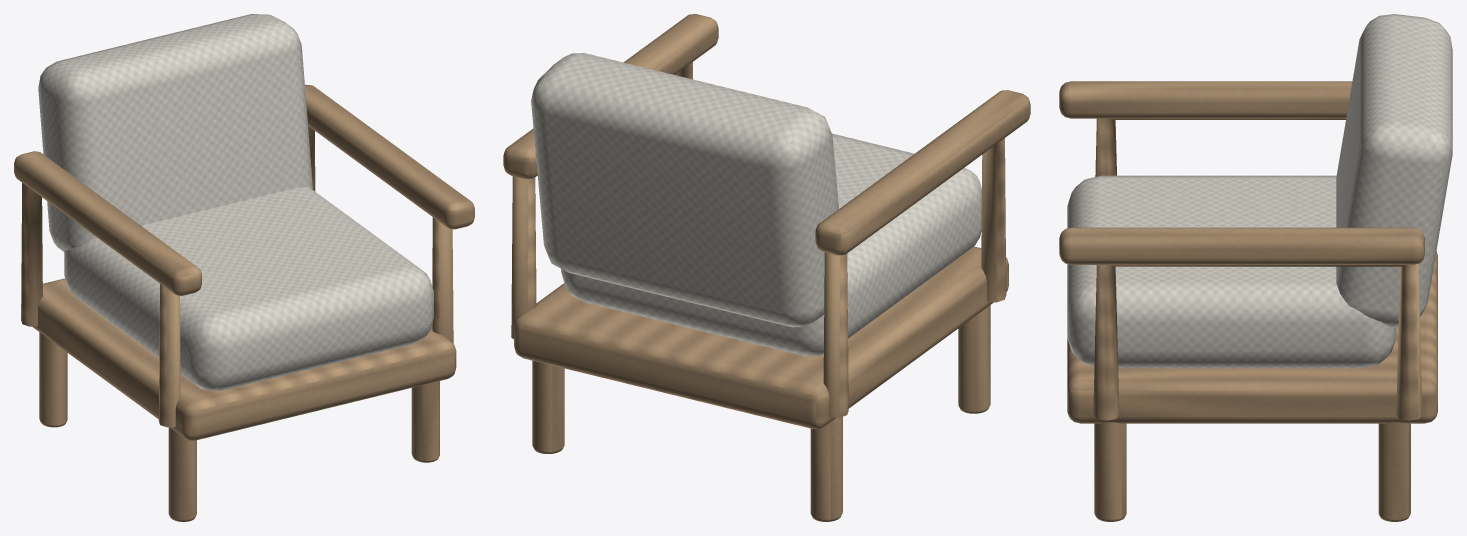
The model's file is armchair.glb.
3 views of the same model, side by side, from view 1: azimuth 30°, elevation 25°; view 2: azimuth 150°, elevation 25°; view 3: azimuth 270°, elevation 25° (orthographic). The views are drawn at different scales.
Visible parts, largest first — view 1: 家具_armchair; view 2: 家具_armchair; view 3: 家具_armchair.
Part boxes in pixels (bbox=[...]): 家具_armchair: bbox=[14, 14, 474, 521]; 家具_armchair: bbox=[503, 14, 1030, 521]; 家具_armchair: bbox=[1059, 14, 1452, 521].
Size of the model in its own units: 0.78 by 0.86 by 0.8.
2 materials, 2 textured.
